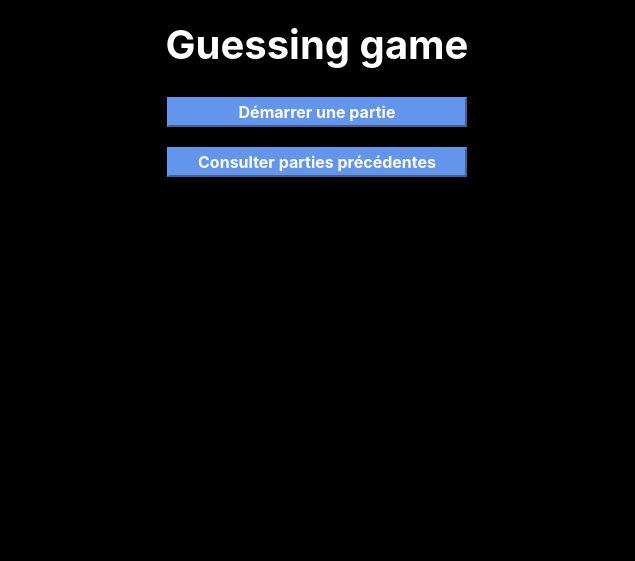
Test: Guessing Game Application Tests › should prompt the user to enter a word when clicking "Démarrer une partie
The width and height of the screenshot is (635, 561).
Click the button with id "button-start-game" at (317, 112), box [167,97,467,127]
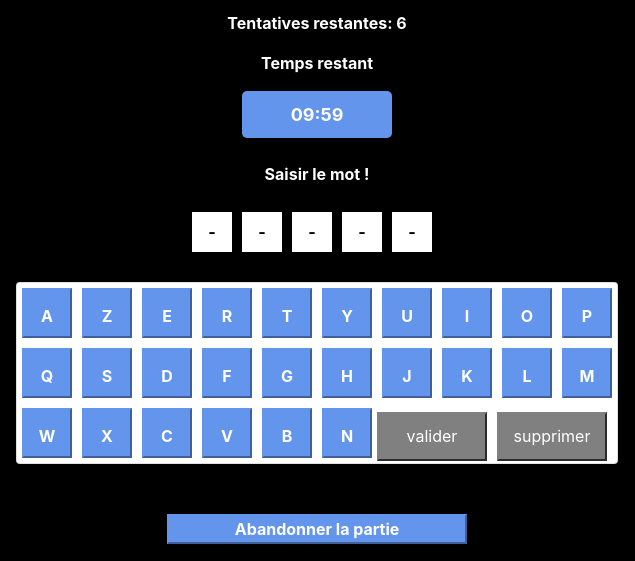
Expected: the text "Saisir le mot !" is shown, [265,162,369,186]
Expected: the element with id "game-keyboard" is shown, [16,282,618,464]
Expected: the text with id "case0" is shown, [192,212,232,252]
